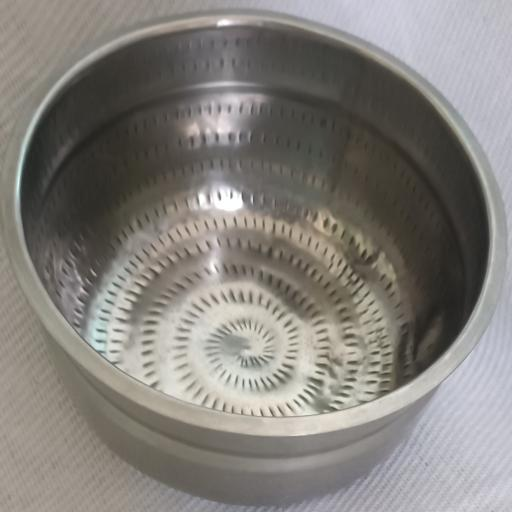vessel: (0, 11, 507, 503)
